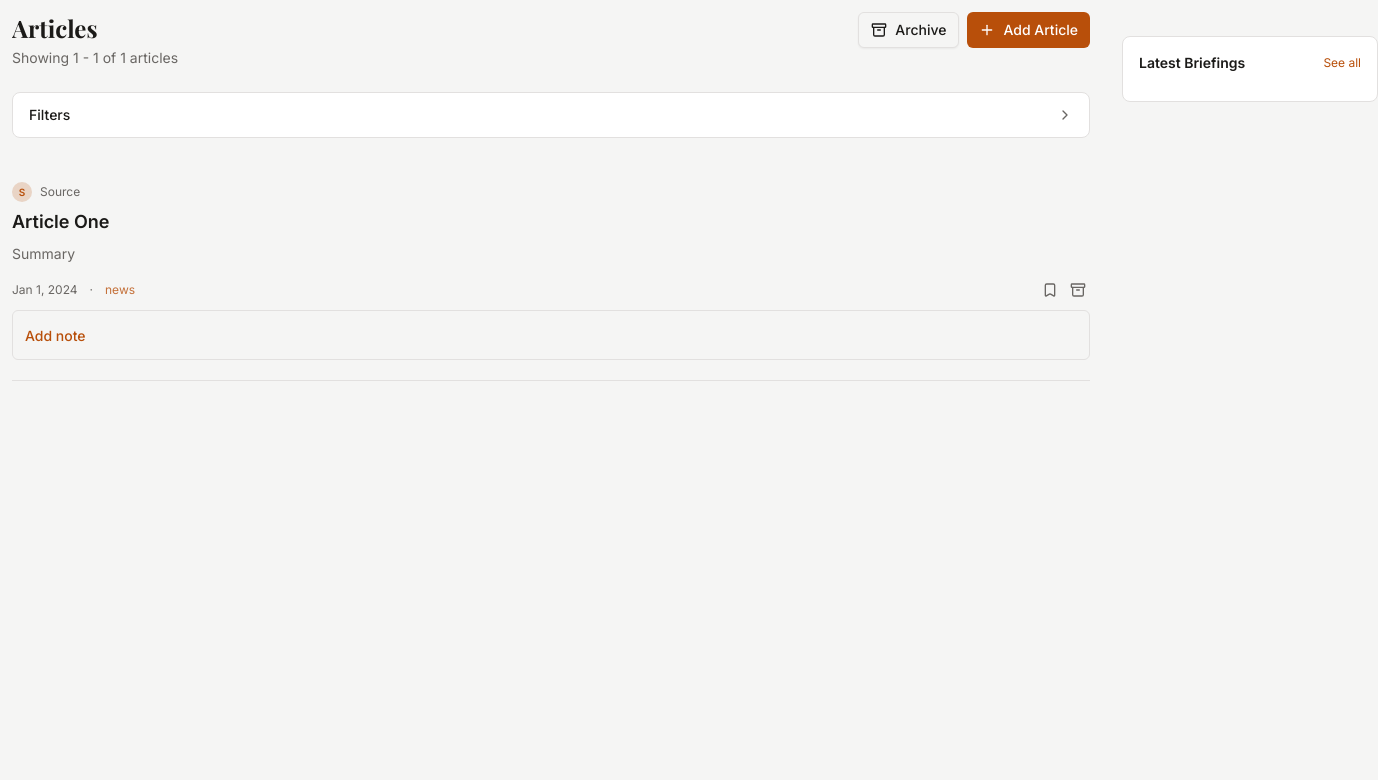
Test: ArticlesPage category filter › lists every category even when this page of articles only has one
The image size is (1378, 780).
Expected: the link "Article One" is shown, [12,211,110,232]
Step 1. Click the button "Filters" → (50, 114), box [13,93,1089,137]
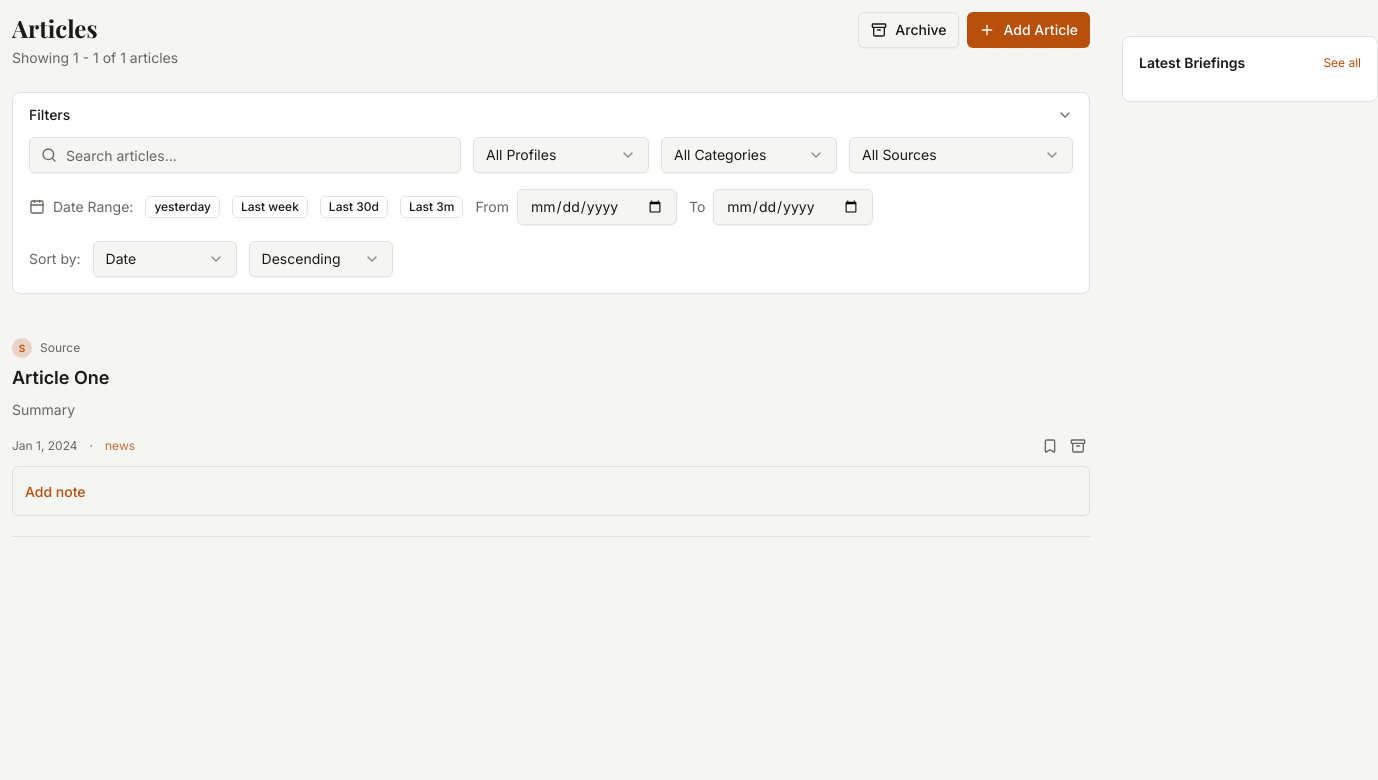
Step 2. Click the dropdown "All Categories" → (749, 155), box [661,137,837,173]
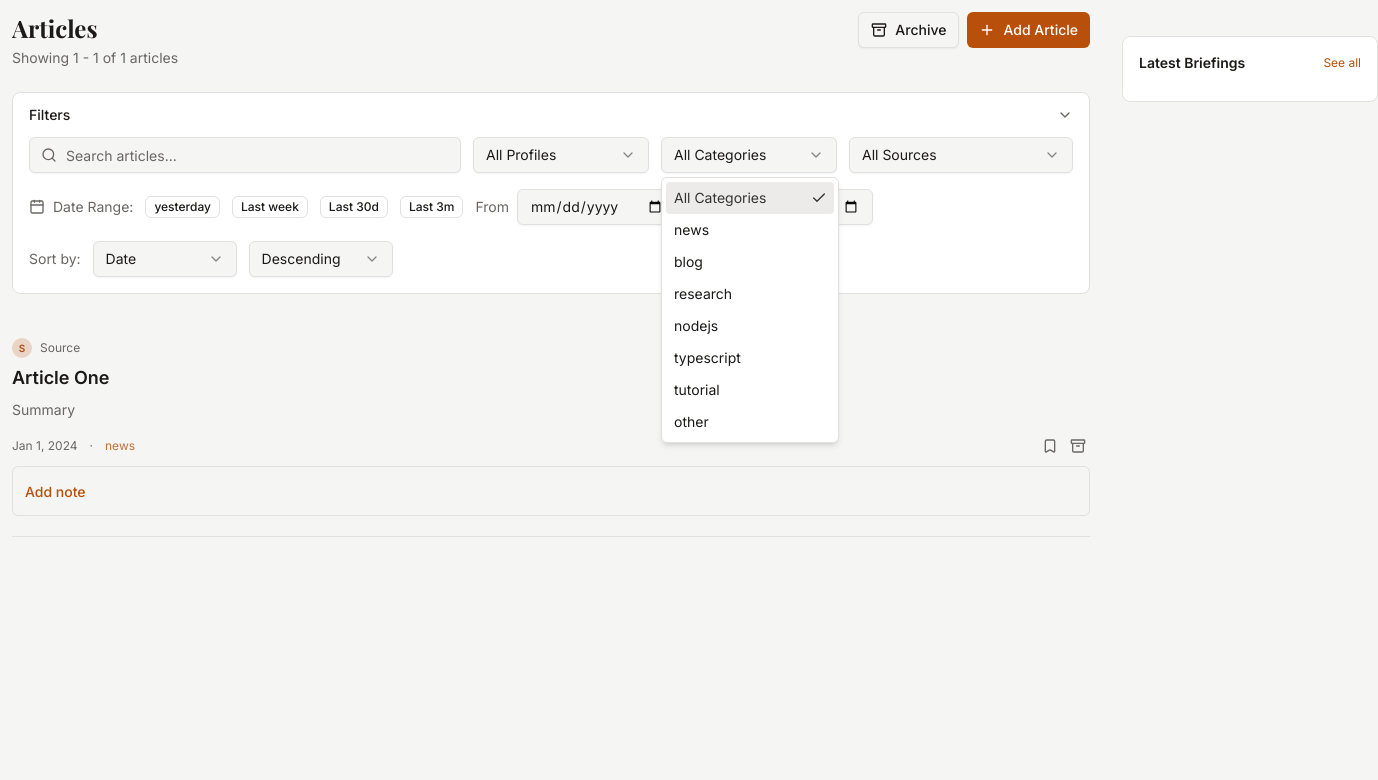
Expected: the option "news" is shown, [674,221,709,238]
Expected: the option "blog" is shown, [674,253,703,270]
Expected: the option "research" is shown, [674,285,732,302]
